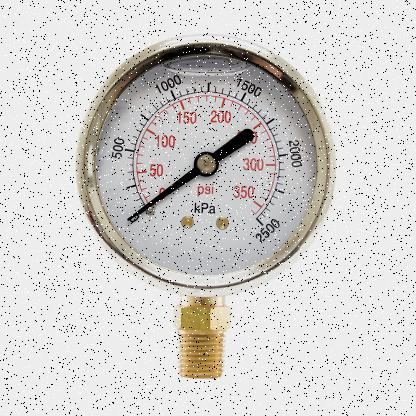needle: (127, 168, 200, 221)
